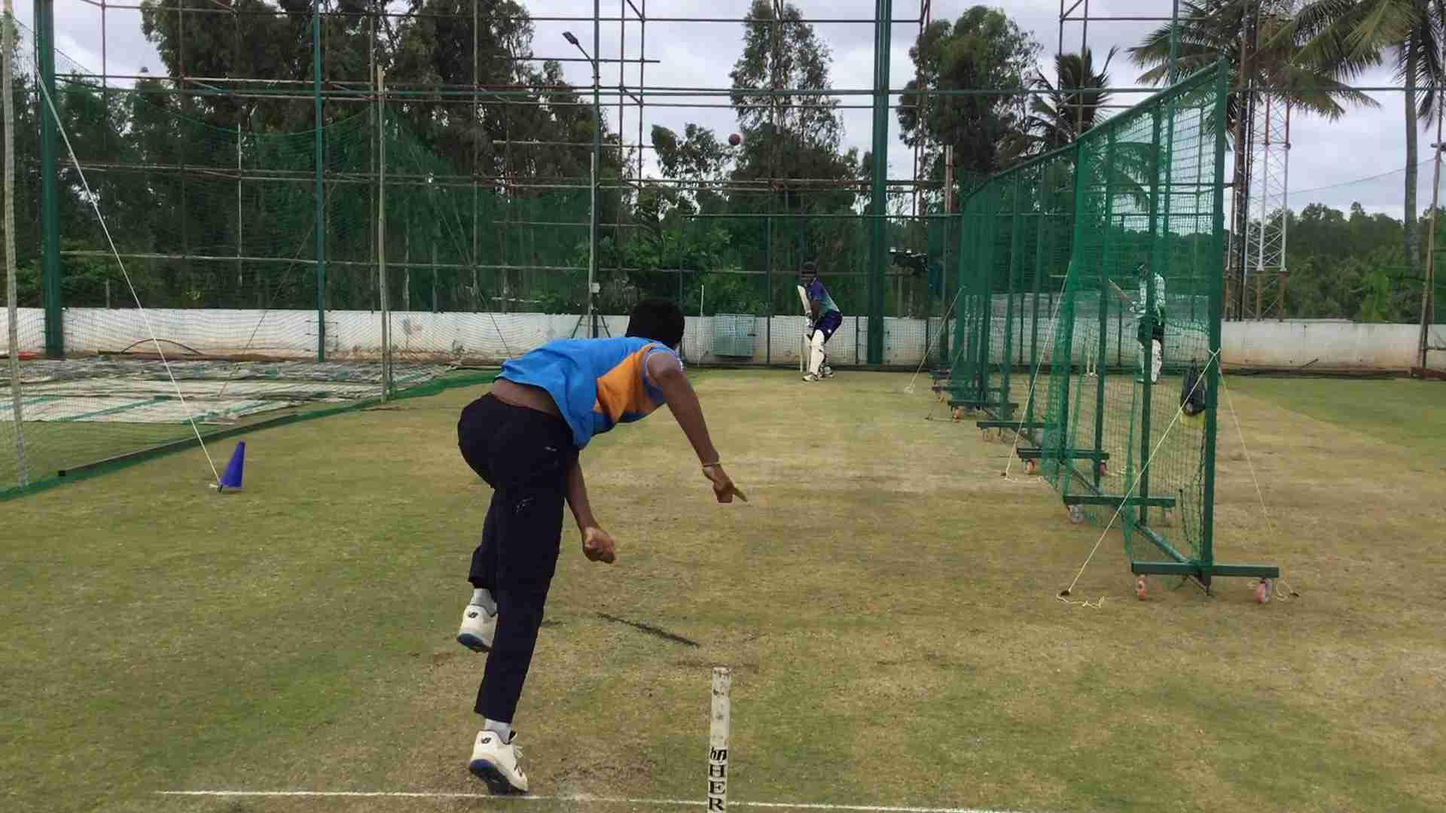batsman: (791, 251, 848, 387)
